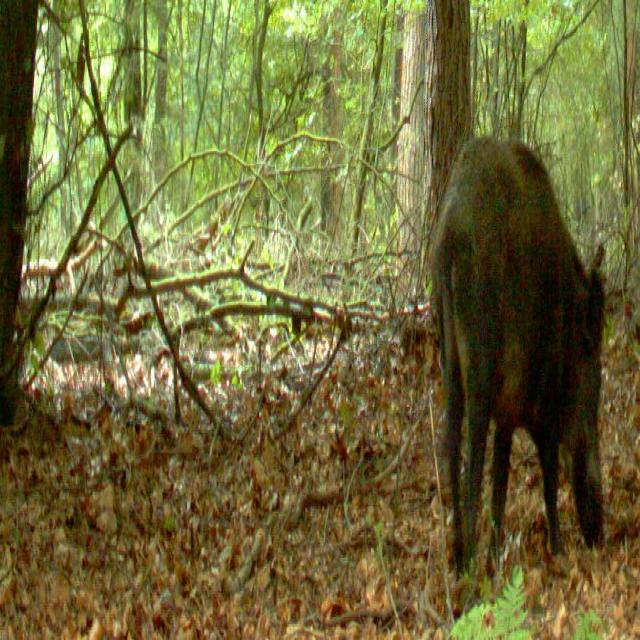pig: (402, 118, 630, 550)
